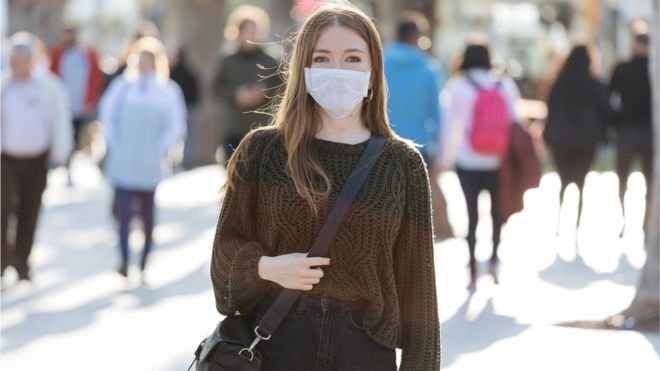mask: (296, 61, 376, 118)
